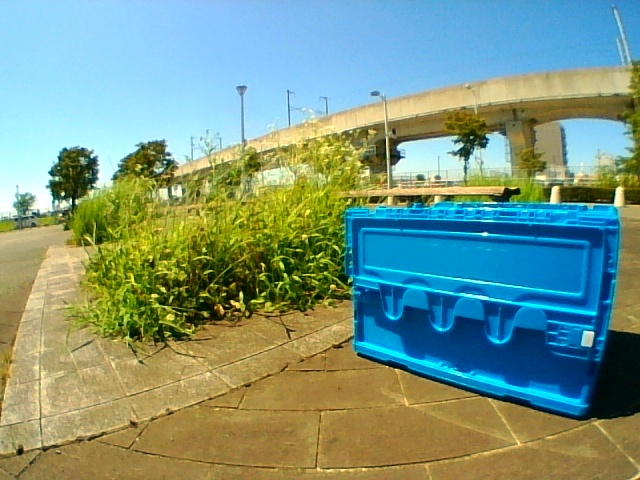blue_box: (356, 208, 604, 352)
